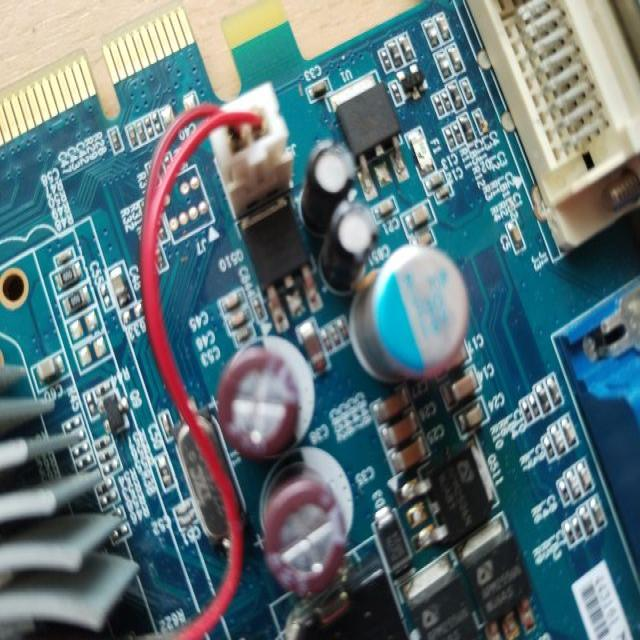capacitor: (378, 415, 424, 452), (446, 372, 489, 407), (109, 268, 139, 316), (391, 439, 427, 475), (376, 390, 412, 424), (34, 352, 66, 390), (453, 406, 496, 431), (406, 202, 433, 230), (216, 291, 246, 310), (505, 222, 525, 250), (437, 15, 455, 42), (591, 491, 602, 532), (230, 311, 250, 328), (399, 35, 413, 59), (450, 44, 464, 68), (564, 419, 576, 446), (580, 462, 591, 489), (236, 328, 250, 346)
resistor: (58, 290, 94, 318), (49, 264, 86, 285), (450, 116, 462, 148), (94, 436, 115, 454), (561, 527, 578, 547), (108, 525, 130, 539), (529, 399, 545, 418), (441, 85, 453, 109), (519, 402, 533, 422), (443, 126, 457, 145), (100, 448, 113, 468), (542, 436, 553, 458), (572, 518, 584, 538), (556, 479, 569, 497), (98, 479, 110, 497), (433, 98, 444, 114)
